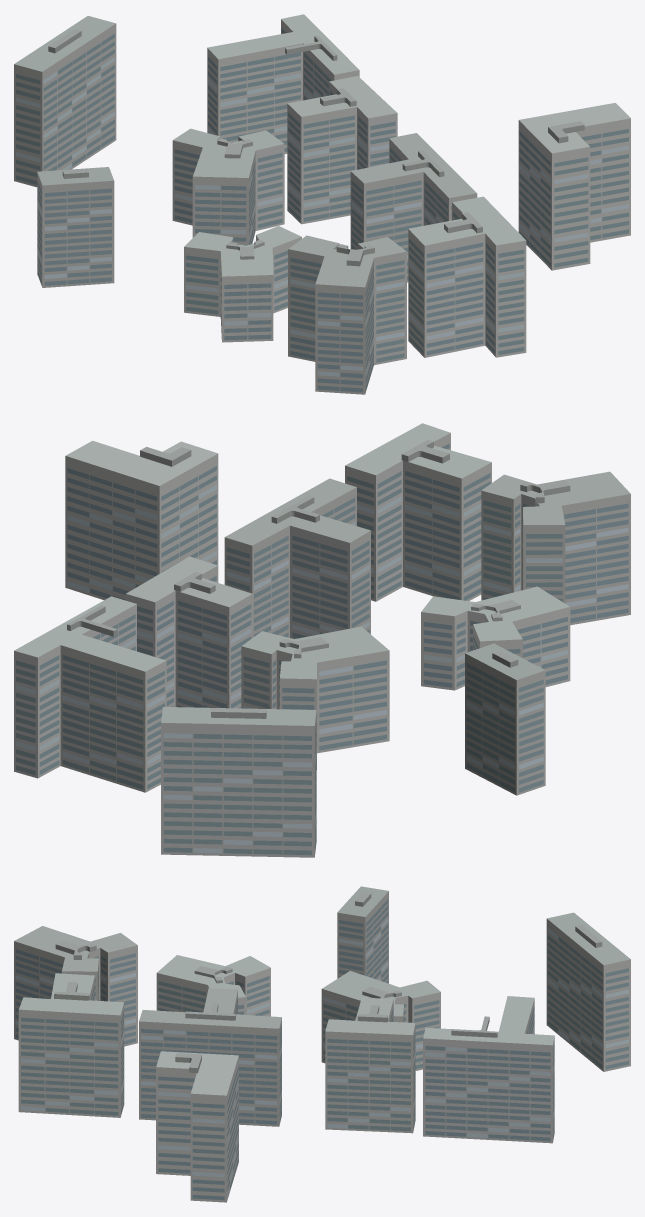
Rendered from apt-a15721008.glb.
The picture shows the model from 3 angles, top to bottom: view 1: azimuth 30°, elevation 25°; view 2: azimuth 150°, elevation 25°; view 3: azimuth 270°, elevation 25°; orthographic projection. The views are drawn at different scales.
Visible parts, largest first — view 1: apt-a15721008; view 2: apt-a15721008; view 3: apt-a15721008.
Part boxes in pixels (<box>): apt-a15721008: <box>14,14,630,394</box>; apt-a15721008: <box>14,423,630,857</box>; apt-a15721008: <box>14,886,630,1202</box>.
Size of the model in its own units: 205 by 48 by 240.
